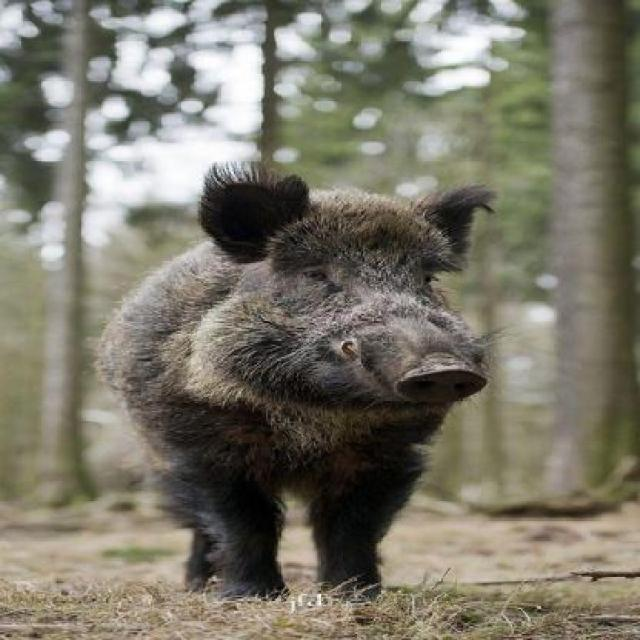wildboar: (86, 166, 509, 603)
